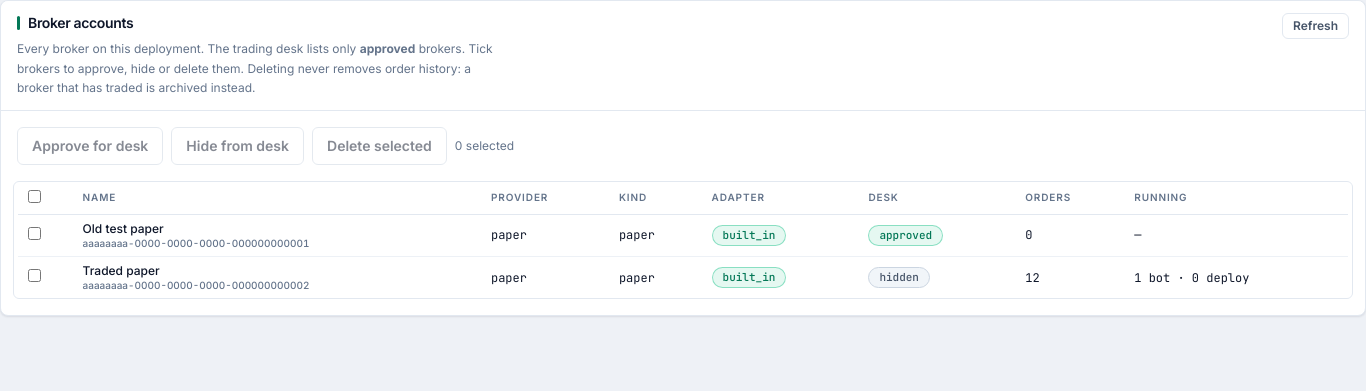
BrokerAccountsAdmin › approving posts the ticked ids and reloads
The image size is (1366, 391).
Expected: the text "Traded paper" is shown, [83, 263, 160, 278]
Step 1. Click the checkbox named "Select Traded paper" → (34, 276), box [28, 269, 41, 282]
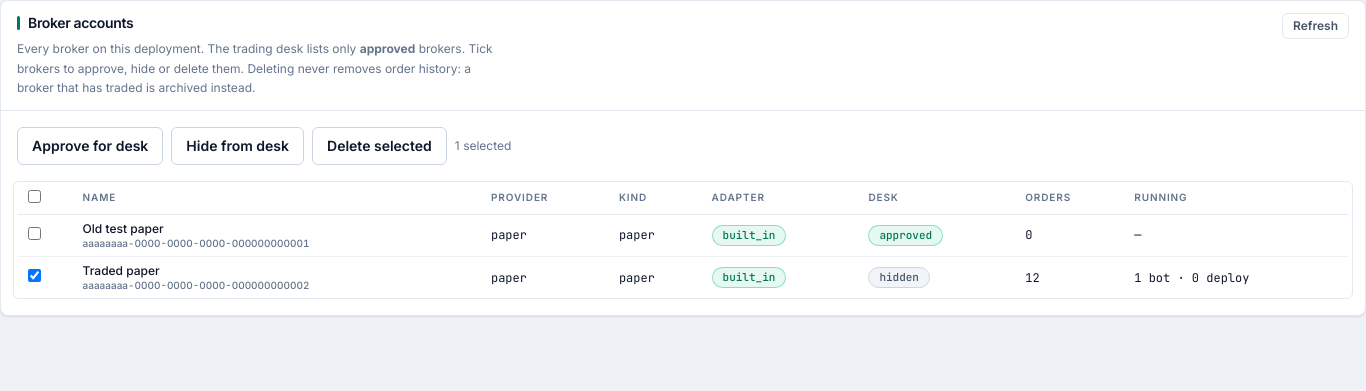
Step 2. Click the button "Approve for desk" → (90, 146), box [17, 126, 163, 164]
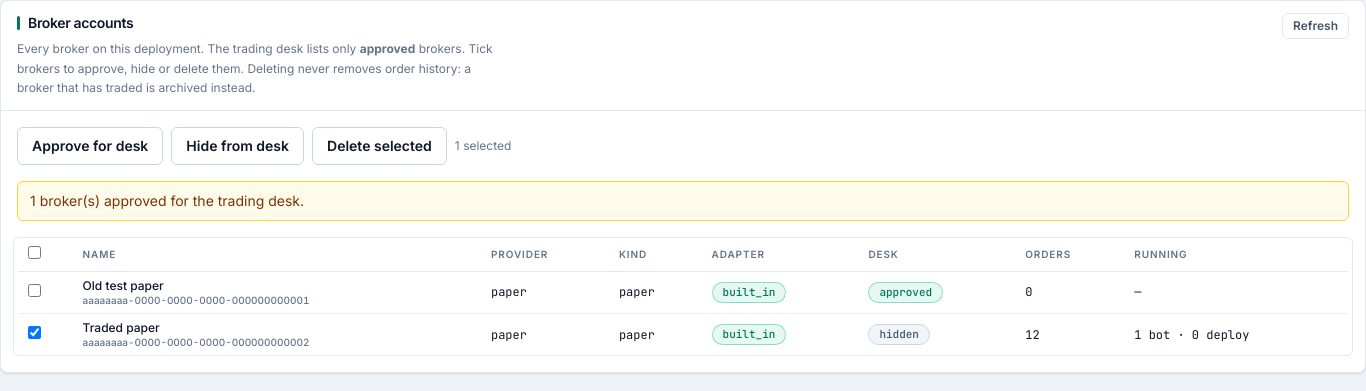
Now the text "1 broker(s) approved for the trading desk." is shown, box [17, 180, 1349, 221]
